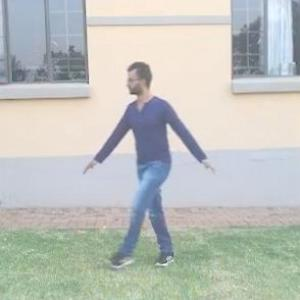land: (88, 72, 212, 237)
